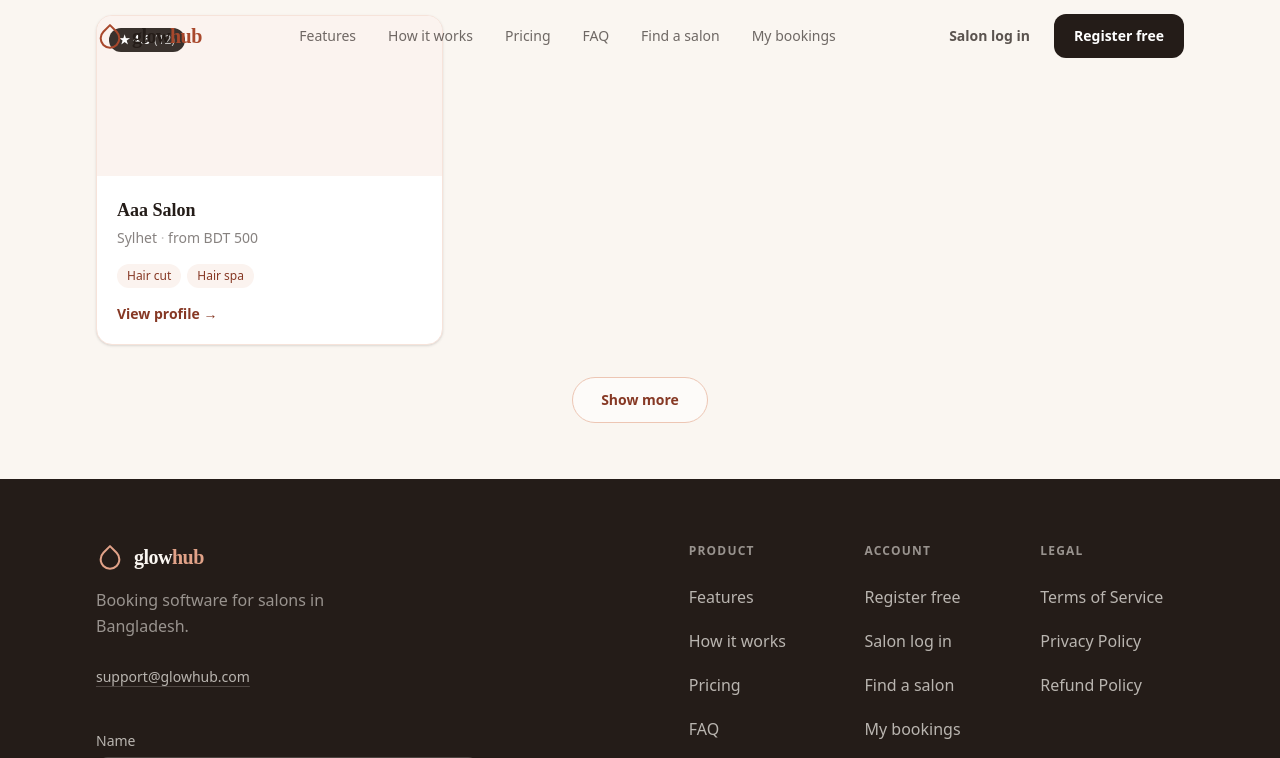
Test: SalonSearchView › resets to page 1 when a new query is typed, and a stale page-2 response is discarded
This screenshot has width=1280, height=758.
(page scrolled)
Click the button with test id "show-more".
click(640, 400)  # box [572, 377, 708, 423]
(page scrolled)
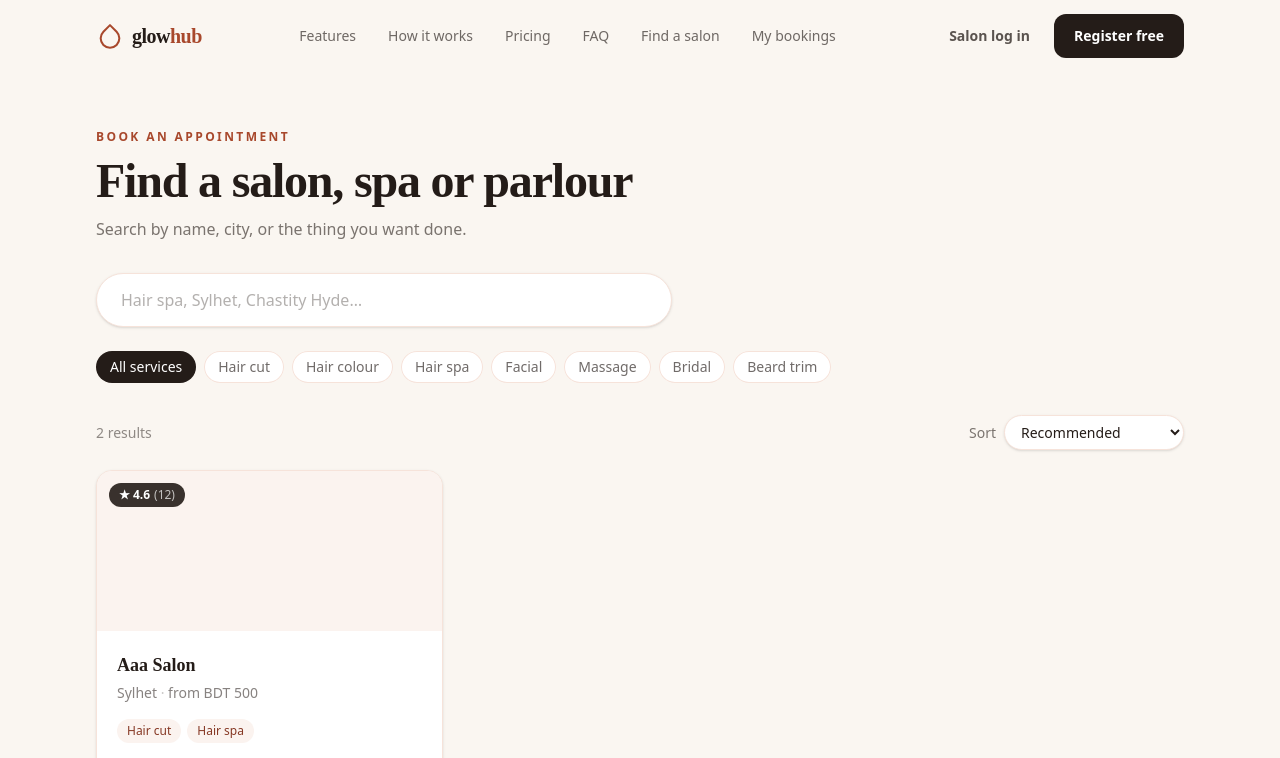
Type "new" into the search field with placeholder "Hair spa, Sylhet, Chastity Hyde…".
click(384, 300); type("new")  # box [96, 273, 672, 327]
Wait 300 ms
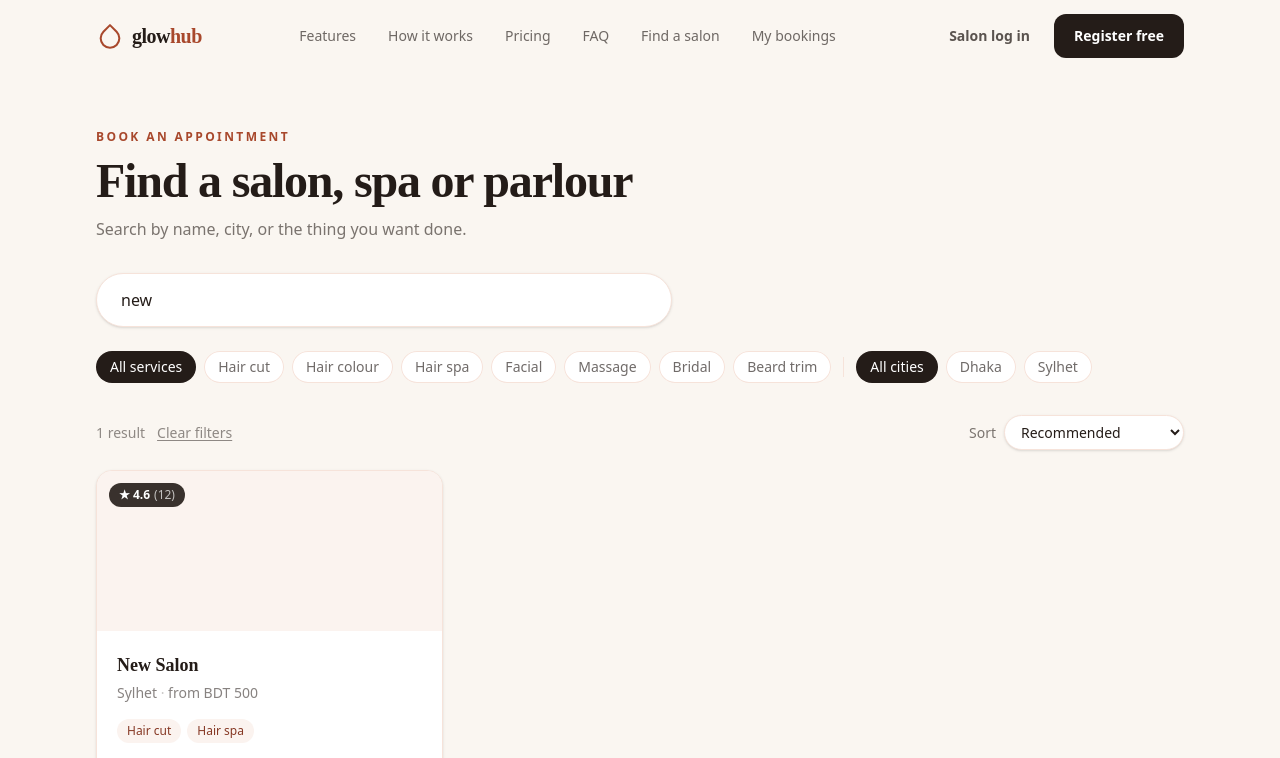
Expected: the text "New Salon" is shown, [117, 655, 198, 675]
Expected: the text "Aaa Salon" is gone
